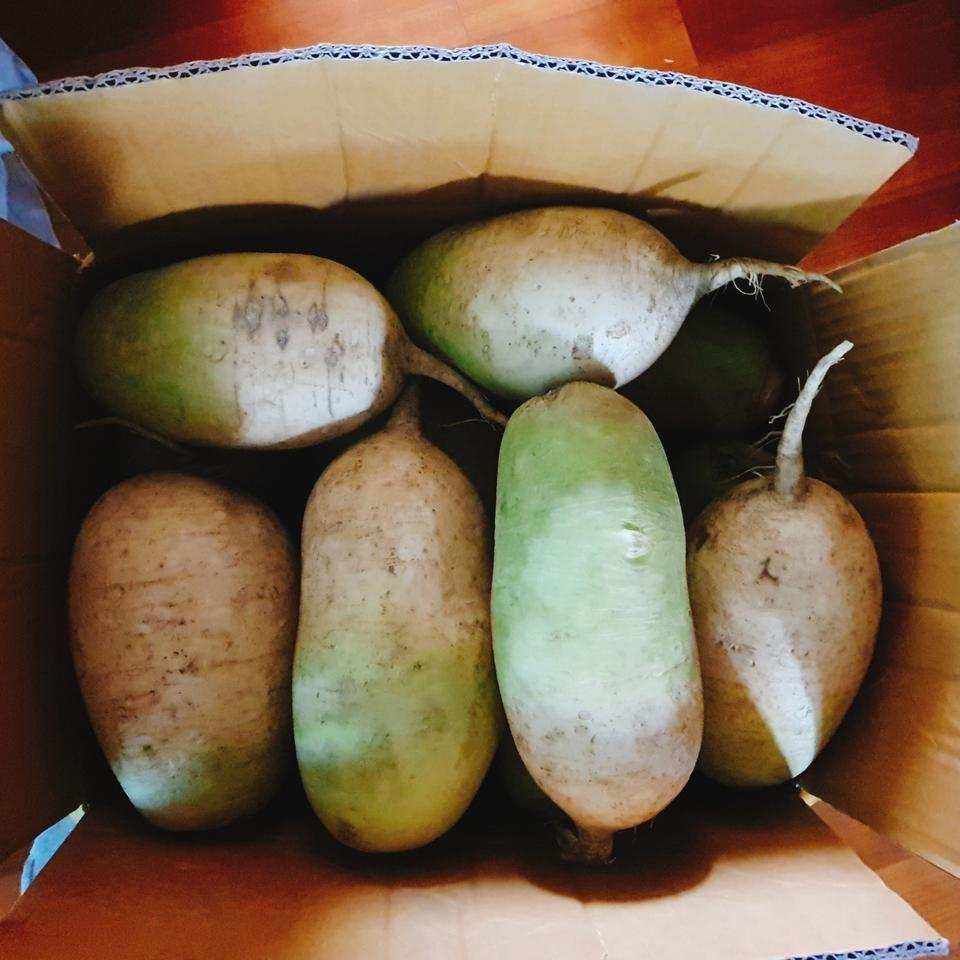radish: (439, 657, 738, 960), (747, 616, 960, 960)
